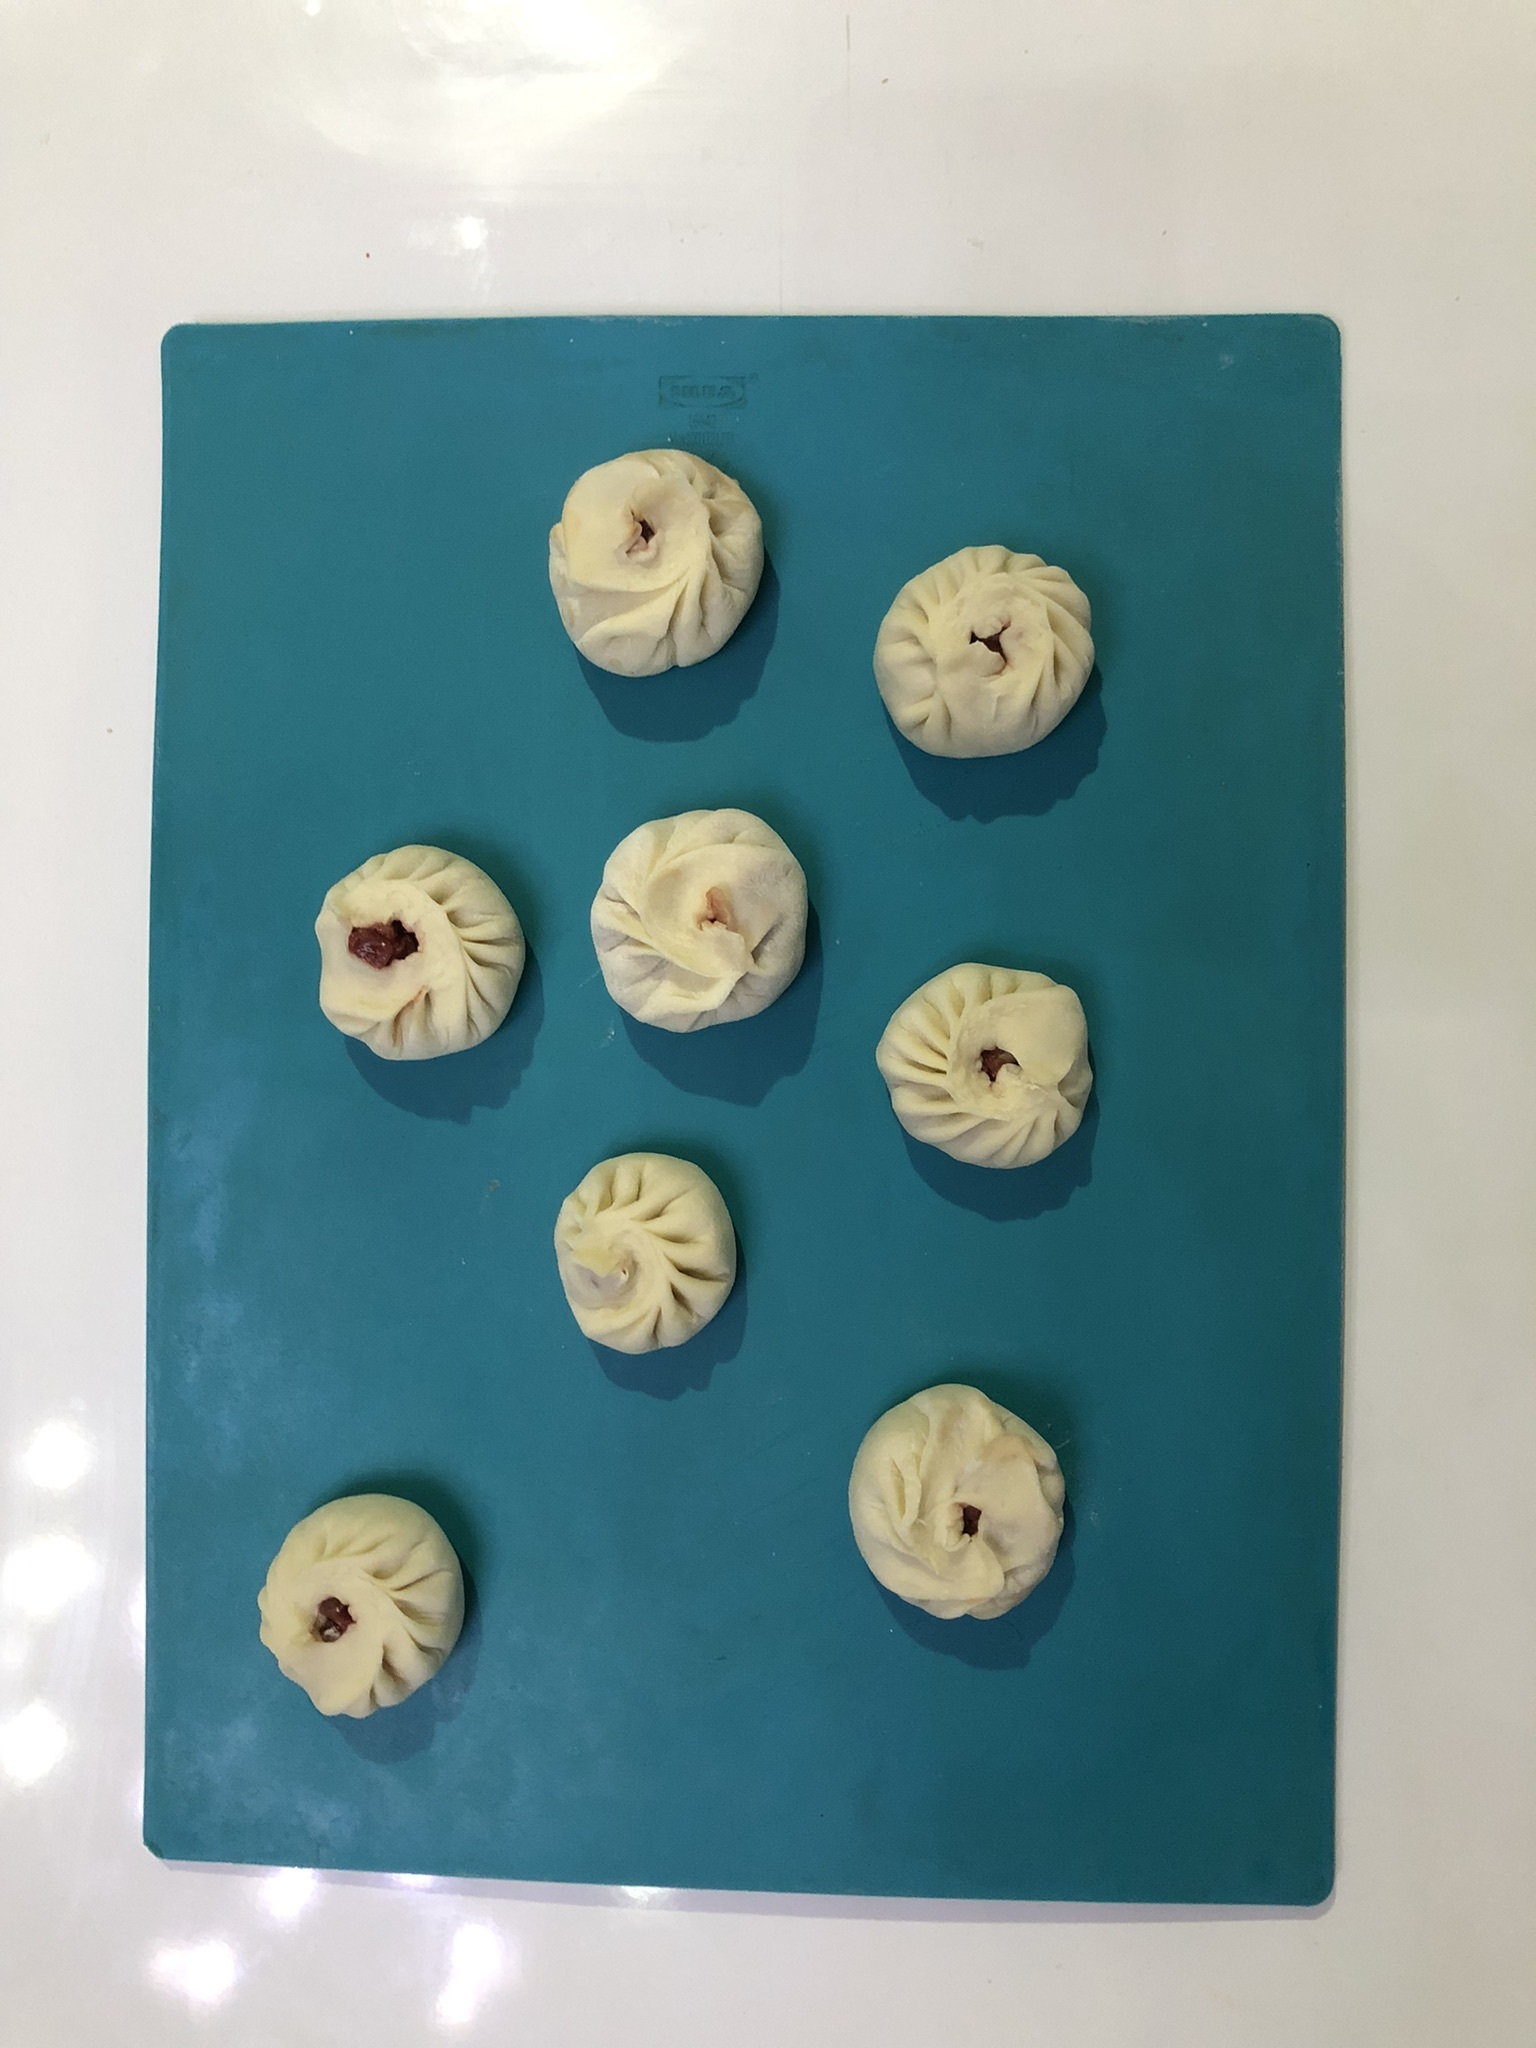buuz: (815, 1367, 1079, 1643), (850, 951, 1113, 1190), (578, 793, 829, 1042), (244, 1480, 490, 1732), (544, 439, 784, 693), (862, 534, 1105, 772), (303, 834, 537, 1076), (544, 1142, 757, 1364)
